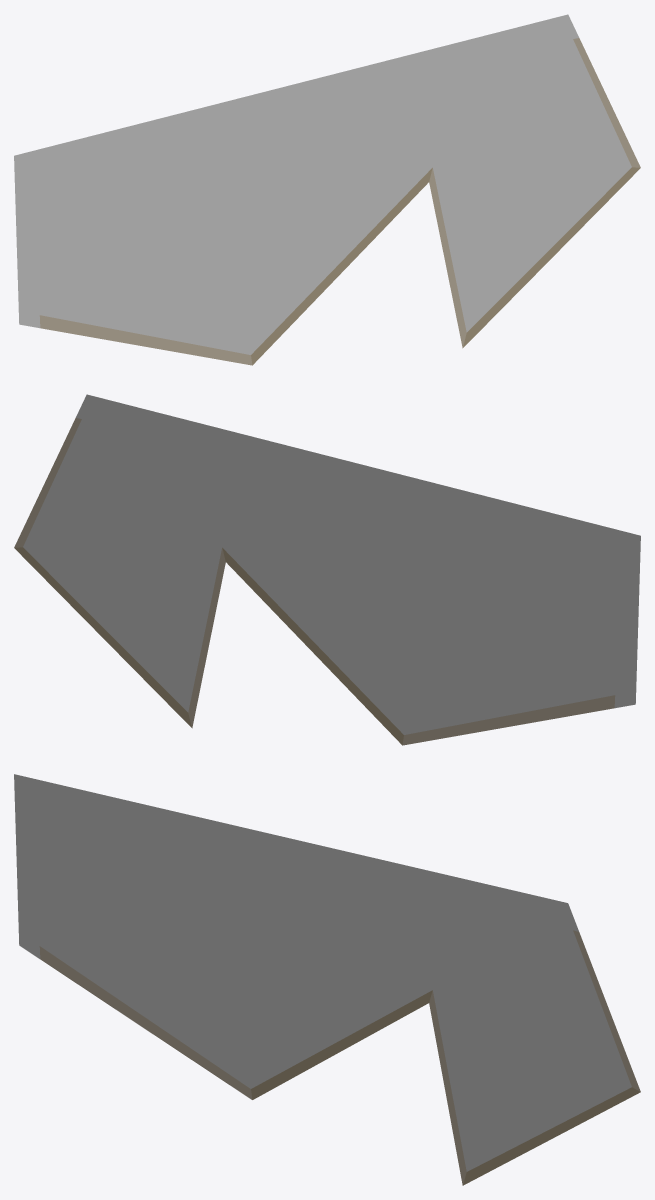
The model's file is treasureQuestPuzzlePiecesA.glb.
The picture shows the model from 3 angles, top to bottom: view 1: azimuth 30°, elevation 25°; view 2: azimuth 150°, elevation 25°; view 3: azimuth 330°, elevation 25°; orthographic projection.
Visible parts, largest first — view 1: treasureQuestPuzzlePiecesA; view 2: treasureQuestPuzzlePiecesA; view 3: treasureQuestPuzzlePiecesA.
Part boxes in pixels (left/top/right/bottom): treasureQuestPuzzlePiecesA: left=14, top=14, right=640, bottom=365; treasureQuestPuzzlePiecesA: left=14, top=394, right=640, bottom=745; treasureQuestPuzzlePiecesA: left=14, top=774, right=640, bottom=1185.
Bounding box in the file's own units: 0.9075 × 0.4266 × 0.
